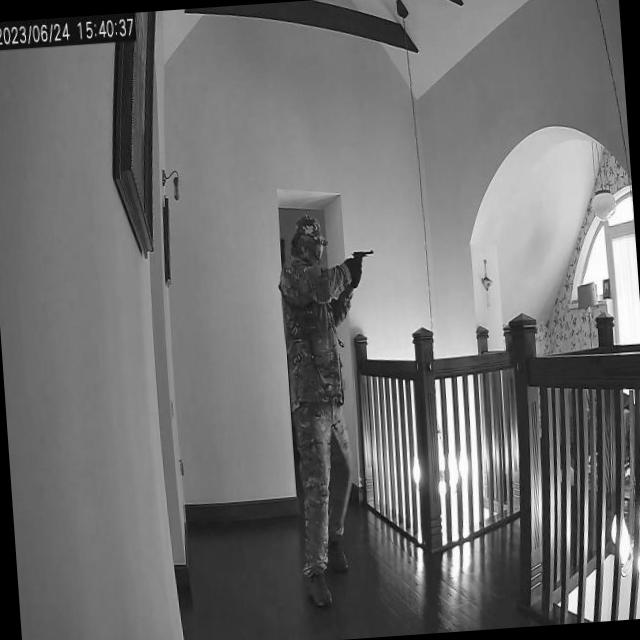gun: (352, 244, 378, 274)
person with a gun: (272, 204, 404, 614)
